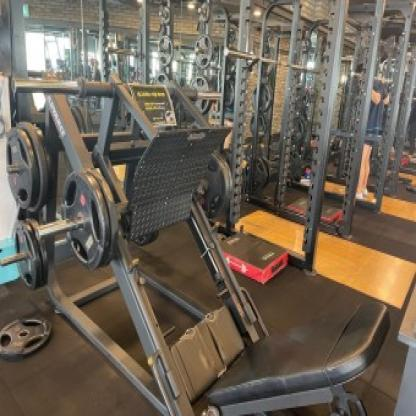leg press: (0, 65, 396, 415)
